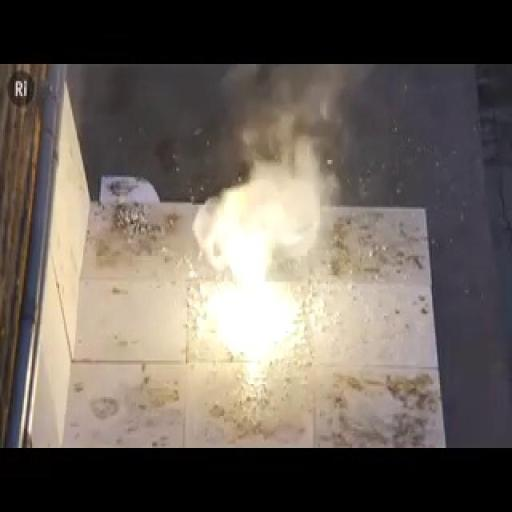smoke: (202, 186, 313, 367)
